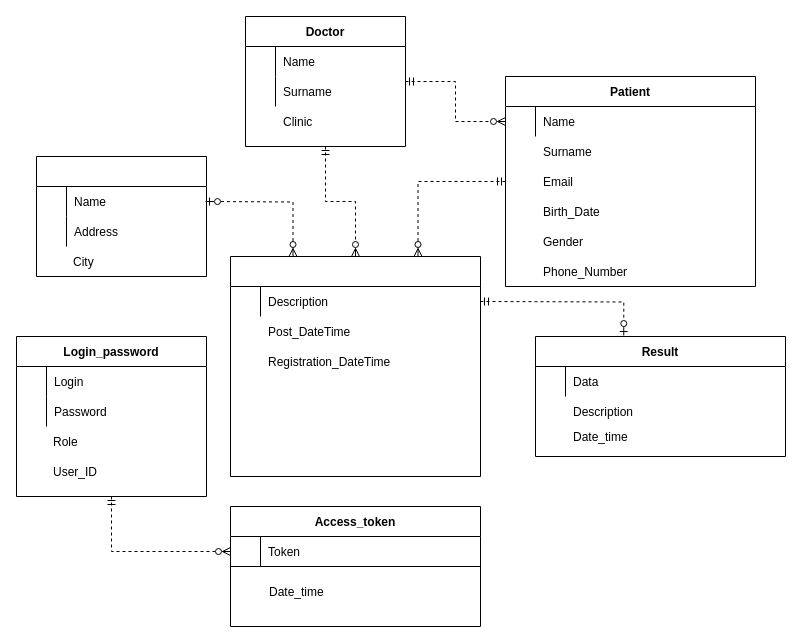
The diagram is 802 pixels wide and 643 high, and some of its shapes have lost their labels. The box of each missing label's shape, as (x1, y1, x2, y2) in pixels:
Direction: (230, 256, 480, 476)
Laboratory: (36, 156, 206, 276)
